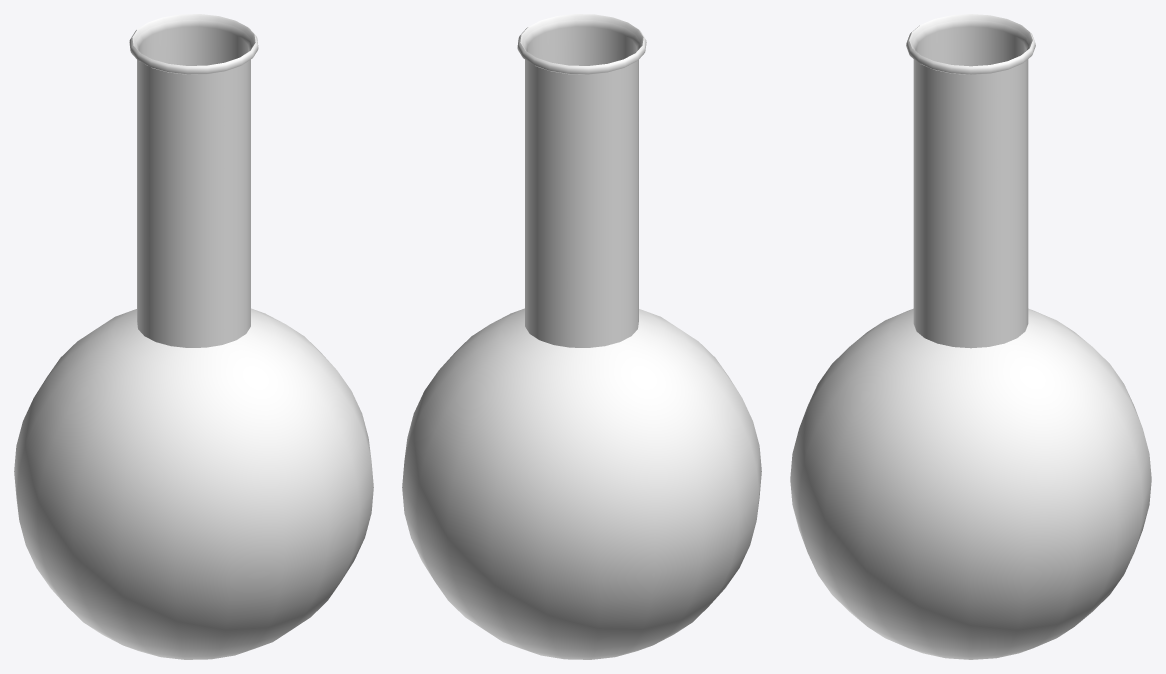
The model's file is florence_flask.glb.
3 renders of one model, left to right at view 1: azimuth 30°, elevation 25°; view 2: azimuth 150°, elevation 25°; view 3: azimuth 270°, elevation 25°, orthographic.
Parts seen in each view (by area): view 1: florence_flask1; view 2: florence_flask1; view 3: florence_flask1.
Boxes of the visible parts, x1,y1,x2,y2 form: florence_flask1: [14, 14, 373, 659]; florence_flask1: [402, 14, 761, 659]; florence_flask1: [790, 14, 1151, 659].
Bounding box in the file's own units: 0.142 × 0.2614 × 0.142.
1 material, 1 textured.
